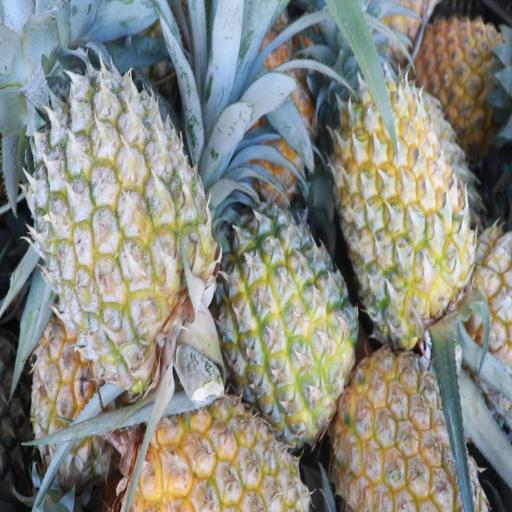------------------------------: (40, 82, 207, 376), (220, 212, 356, 430), (30, 319, 120, 494)
Pineapple - v8 v1: (340, 77, 476, 328), (342, 346, 481, 512), (129, 395, 311, 512), (417, 4, 512, 137)
